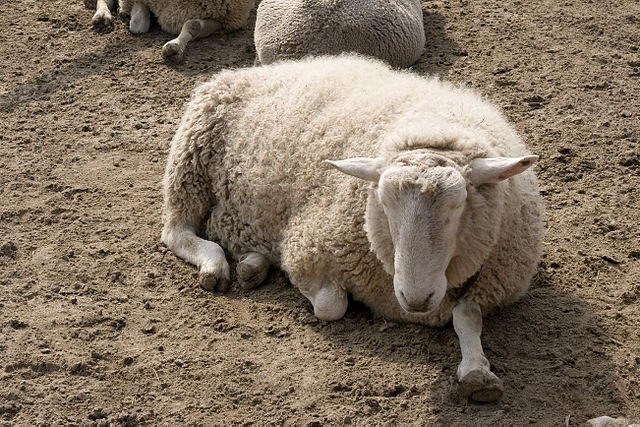resting: (159, 51, 543, 397)
